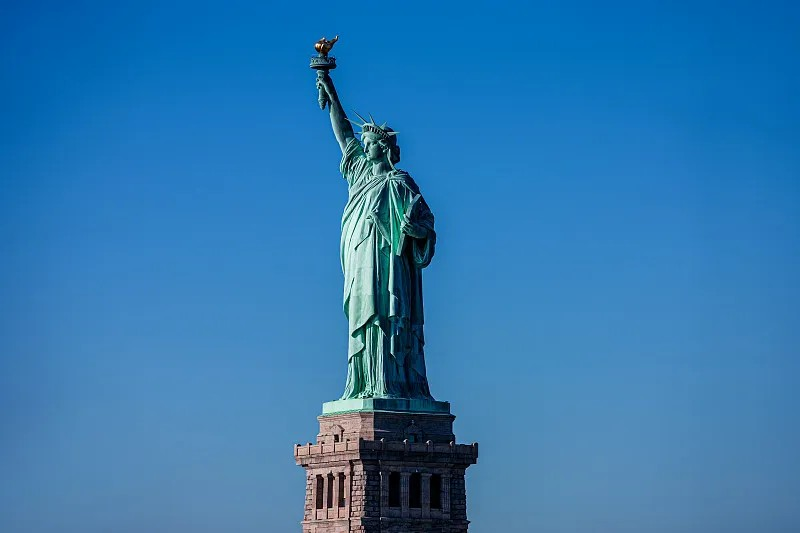SL: (293, 35, 479, 533)
